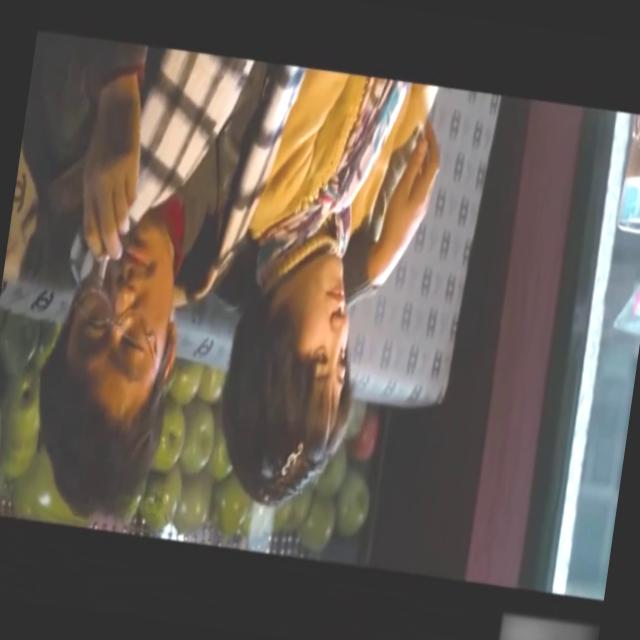cigarette: (88, 238, 128, 304)
